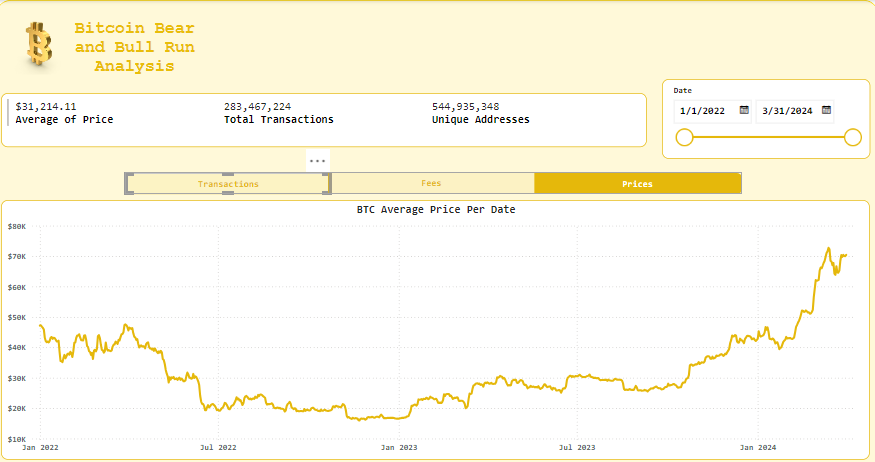

The page's visual inventory and layout, read from the dashboard file:
{"tool":"powerbi","page":{"name":"Page 1","canvas":[1280,720],"ordinal":0},"visuals":[{"type":"group","id":"g1","title":"Background","box":[9.7,0,1270.3,719.8],"z":0},{"type":"image","box":[22.5,18,95.9,95.9],"z":0,"group":"g1"},{"type":"actionButton","title":"Transactions Off","box":[442.3,81,162.1,28.9],"z":0,"group":"g3"},{"type":"lineChart","title":"BTC Average Price Per Date","fields":{"Y":["Avg(Bitcoin_Clean_V1.Price)"],"Category":["Bitcoin_Clean_V1.Date"]},"box":[385.7,113.2,568.6,245.3],"z":0,"group":"g2"},{"type":"textbox","box":[103.7,22.6,212,91.3],"z":1000,"group":"g1"},{"type":"slicer","title":"Date","fields":{"Values":["Date Table.Date"]},"box":[971.4,237.5,299.2,122.1],"z":1000},{"type":"actionButton","title":"Prices On","box":[765.5,81,163.1,28.5],"z":1250,"group":"g3"},{"type":"actionButton","title":"Fees Off","box":[602.4,79.9,163.1,29.7],"z":1750,"group":"g3"},{"type":"shape","box":[9.7,0,1270.3,719.8],"z":2000,"group":"g1"},{"type":"group","id":"g2","title":"Line Charts","box":[385,79.9,569.2,278.6],"z":2000},{"type":"group","id":"g3","title":"Toggles","box":[442.3,79.9,486.4,30],"z":2000,"group":"g2"},{"type":"multiRowCard","title":"Card View","fields":{"Values":["Avg(Bitcoin_Clean_V1.Price)","Sum(Bitcoin_Clean_V1.Transaction_count)","Sum(Bitcoin_Clean_V1.Unique_addresses)"]},"box":[14.8,114,205.3,246.9],"z":3000}]}

Visuals, with their boxes on the page's 1280x720 design canvas (x1, y1, x2, y2). These are canvas units, not pixel positions in the 875x462 screenshot, which may show the page scaled, cropped or inside an application window:
"Background" group: (left=10, top=0, right=1280, bottom=720)
image: (left=22, top=18, right=118, bottom=114)
"Transactions Off" actionButton: (left=442, top=81, right=604, bottom=110)
"BTC Average Price Per Date" lineChart: (left=386, top=113, right=954, bottom=358)
textbox: (left=104, top=23, right=316, bottom=114)
"Date" slicer: (left=971, top=238, right=1271, bottom=360)
"Prices On" actionButton: (left=766, top=81, right=929, bottom=110)
"Fees Off" actionButton: (left=602, top=80, right=766, bottom=110)
shape: (left=10, top=0, right=1280, bottom=720)
"Line Charts" group: (left=385, top=80, right=954, bottom=358)
"Toggles" group: (left=442, top=80, right=929, bottom=110)
"Card View" multiRowCard: (left=15, top=114, right=220, bottom=361)
